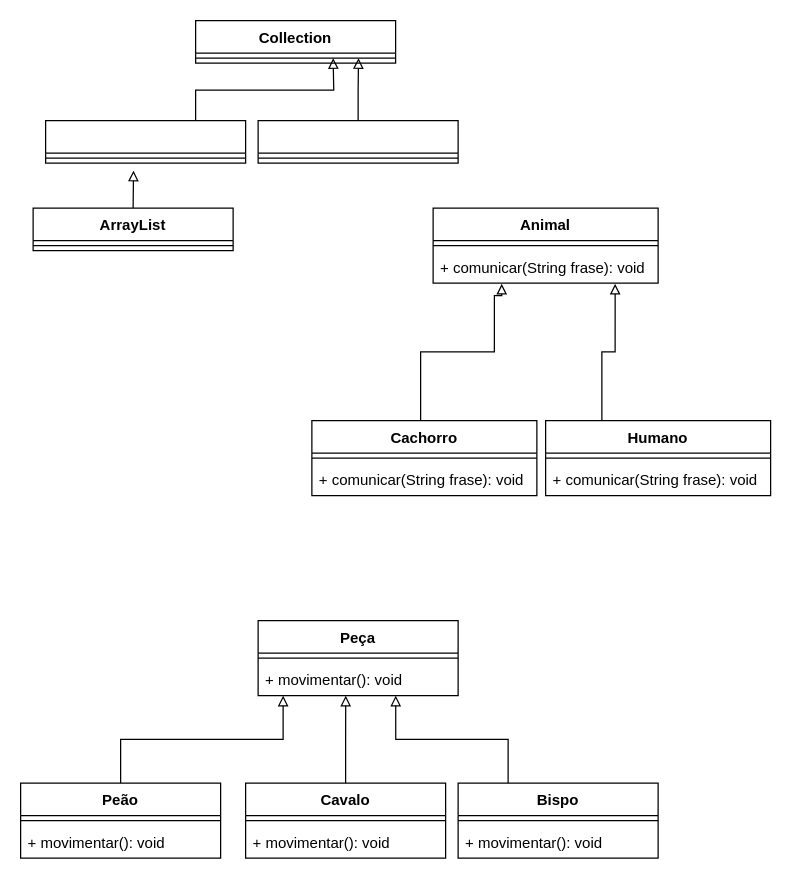
Image size: 791x879. Some labels were removed from this diagram. Here are the shapes that lost their labels. From the top down, the centre of each, then its label:
At point (145, 141): "List".
At point (357, 141): "Set".
